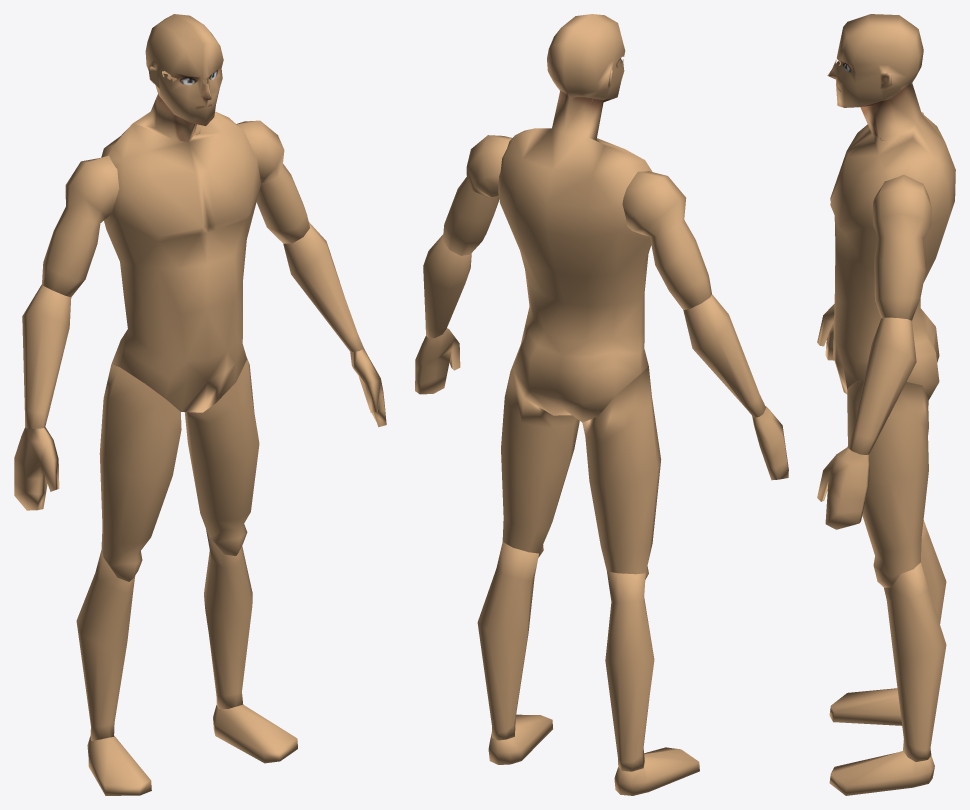
File: split_human.fbx
The picture shows the model from 3 angles, left to right: view 1: azimuth 30°, elevation 25°; view 2: azimuth 150°, elevation 25°; view 3: azimuth 270°, elevation 25°; orthographic projection.
Visible parts, largest first — view 1: Body, ThighR, ThighL, LegR, ShoulderR, LegL, ArmR, ShoulderL, ArmL, FootL, HandR, FootR (+1 smaller); view 2: Body, ThighR, ThighL, LegL, LegR, ShoulderR, ShoulderL, ArmR, ArmL, FootR, HandL, FootL (+1 smaller); view 3: Body, ThighL, LegL, ShoulderL, ArmL, FootL, HandL, FootR, LegR, HandR.
Boxes of the visible parts, bbox=[...] form: Body: bbox=[101, 14, 261, 412]; ThighR: bbox=[99, 364, 181, 581]; ThighL: bbox=[184, 357, 259, 555]; LegR: bbox=[76, 550, 135, 740]; ShoulderR: bbox=[42, 155, 119, 297]; LegL: bbox=[204, 529, 252, 708]; ArmR: bbox=[22, 284, 71, 428]; ShoulderL: bbox=[236, 120, 309, 243]; ArmL: bbox=[283, 222, 363, 352]; FootL: bbox=[213, 704, 297, 763]; HandR: bbox=[14, 427, 59, 510]; FootR: bbox=[87, 735, 151, 795]; Body: bbox=[498, 14, 652, 422]; ThighR: bbox=[582, 366, 661, 579]; ThighL: bbox=[501, 347, 579, 557]; LegL: bbox=[477, 542, 538, 740]; LegR: bbox=[605, 571, 654, 771]; ShoulderR: bbox=[622, 171, 711, 309]; ShoulderL: bbox=[443, 135, 511, 255]; ArmR: bbox=[683, 294, 765, 417]; ArmL: bbox=[423, 234, 471, 338]; FootR: bbox=[614, 747, 699, 795]; HandL: bbox=[415, 328, 460, 394]; FootL: bbox=[488, 714, 552, 764]; Body: bbox=[827, 14, 955, 400]; ThighL: bbox=[847, 380, 928, 587]; LegL: bbox=[884, 562, 946, 761]; ShoulderL: bbox=[873, 174, 931, 320]; ArmL: bbox=[847, 317, 916, 454]; FootL: bbox=[829, 751, 934, 795]; HandL: bbox=[817, 447, 869, 529]; FootR: bbox=[829, 688, 902, 725]; LegR: bbox=[921, 520, 946, 623]; HandR: bbox=[817, 304, 834, 360].
Bounding box in the file's own units: 95.78 × 187 × 32.09.
